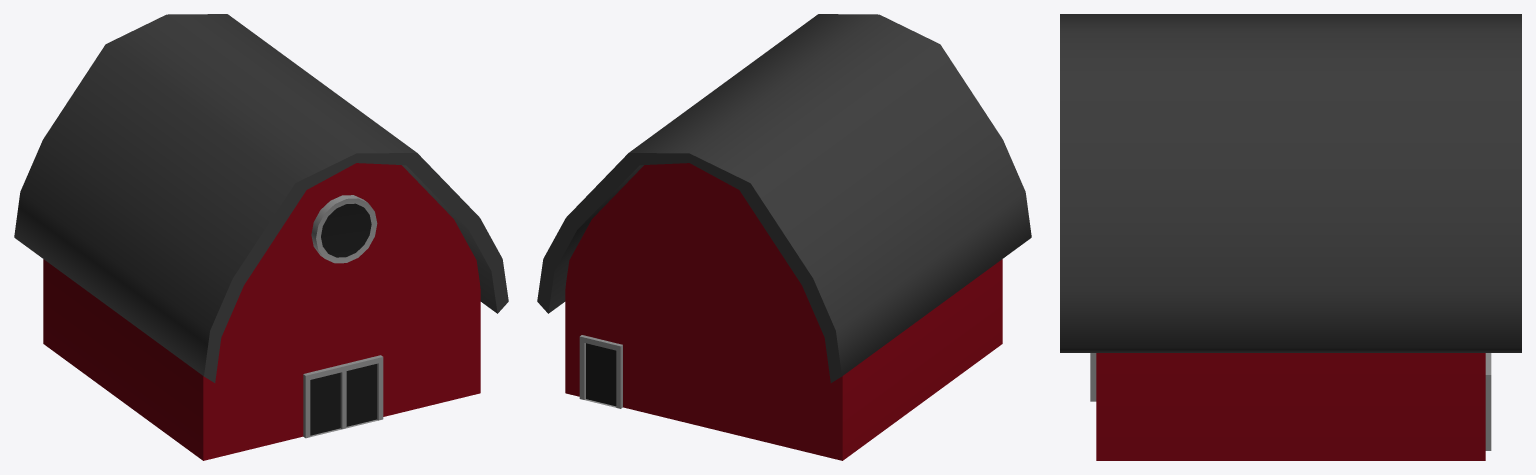
File: Barn(8).fbx
The picture shows the model from 3 angles, left to right: view 1: azimuth 30°, elevation 25°; view 2: azimuth 150°, elevation 25°; view 3: azimuth 270°, elevation 25°; orthographic projection. The views are drawn at different scales.
Visible parts, largest first — view 1: Cube.001; view 2: Cube.001; view 3: Cube.001.
Part boxes in pixels (left/top/right/bottom): Cube.001: left=14, top=14, right=508, bottom=460; Cube.001: left=537, top=14, right=1031, bottom=460; Cube.001: left=1060, top=14, right=1521, bottom=460.
Bounding box in the file's own units: 2198 × 1961 × 2370.
